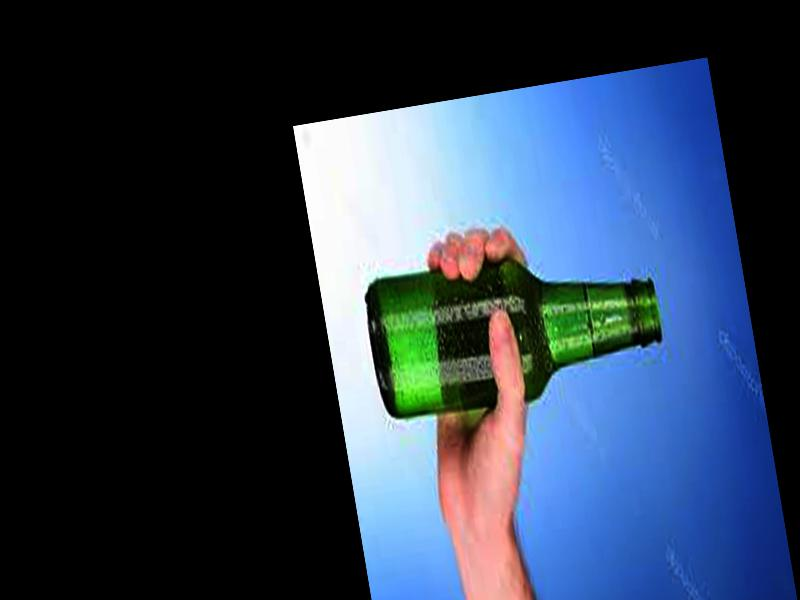Beer: (360, 238, 669, 421)
